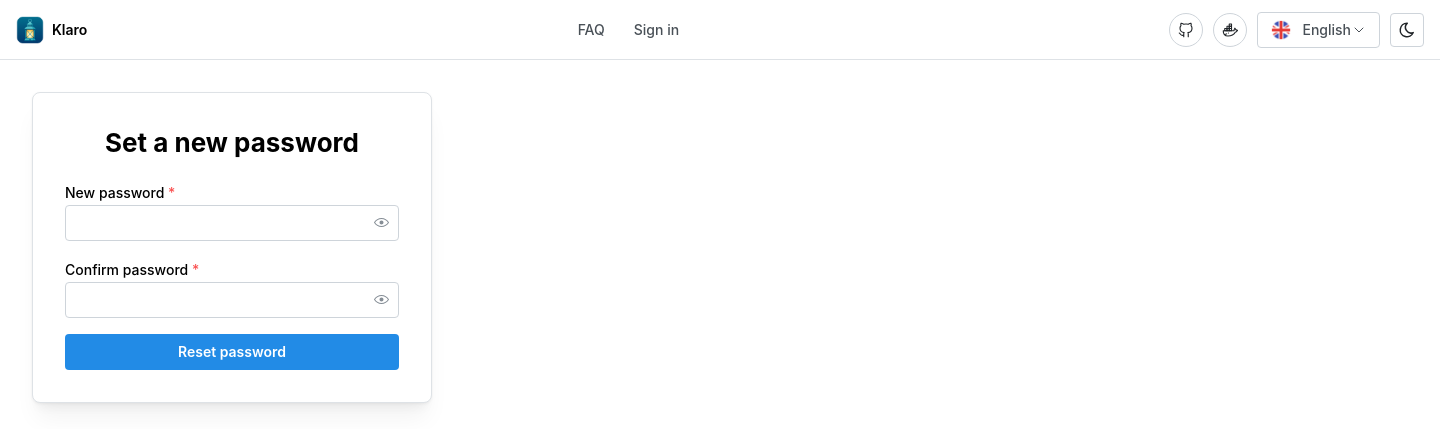
Test: ResetPassword › shows success message after submission
In the password field labelled "New password *": [232, 223] box [66, 206, 398, 240], type "new-password"
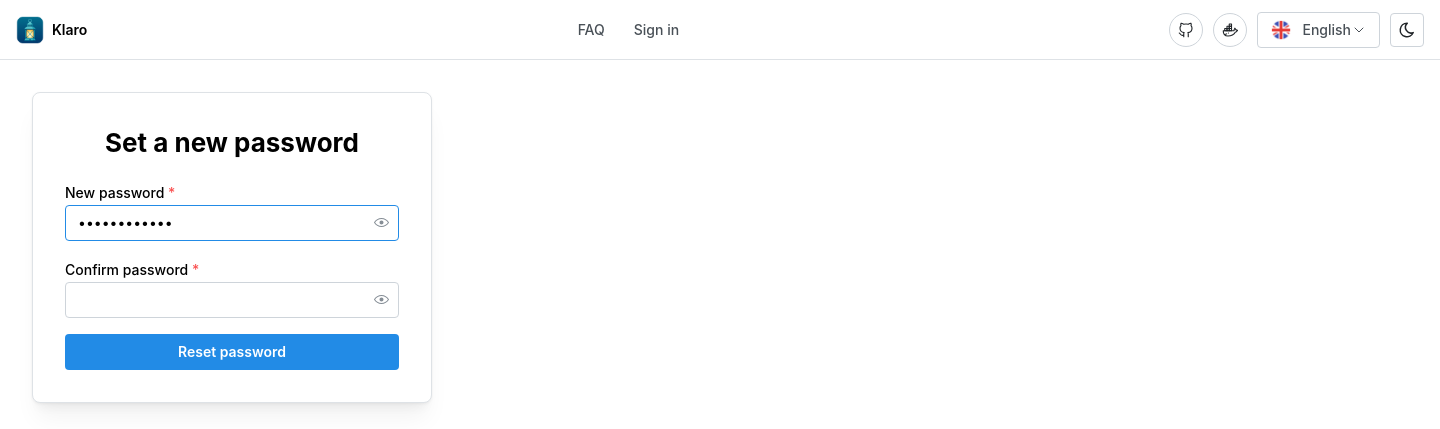
In the password field labelled "Confirm password *": [232, 300] box [66, 283, 398, 317], type "new-password"
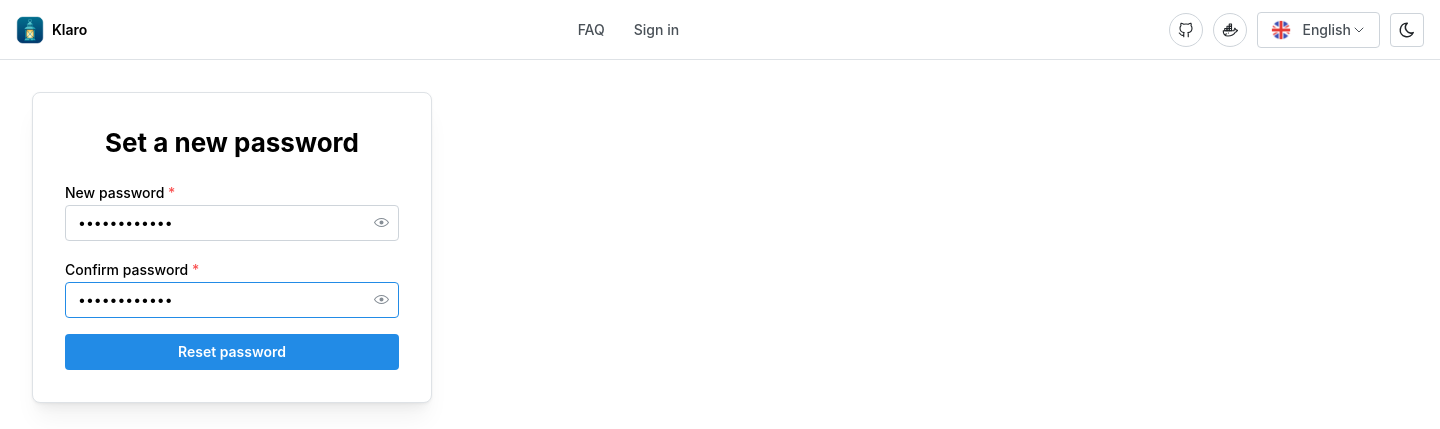
Click the button "Reset password": [232, 352] box [65, 334, 399, 370]
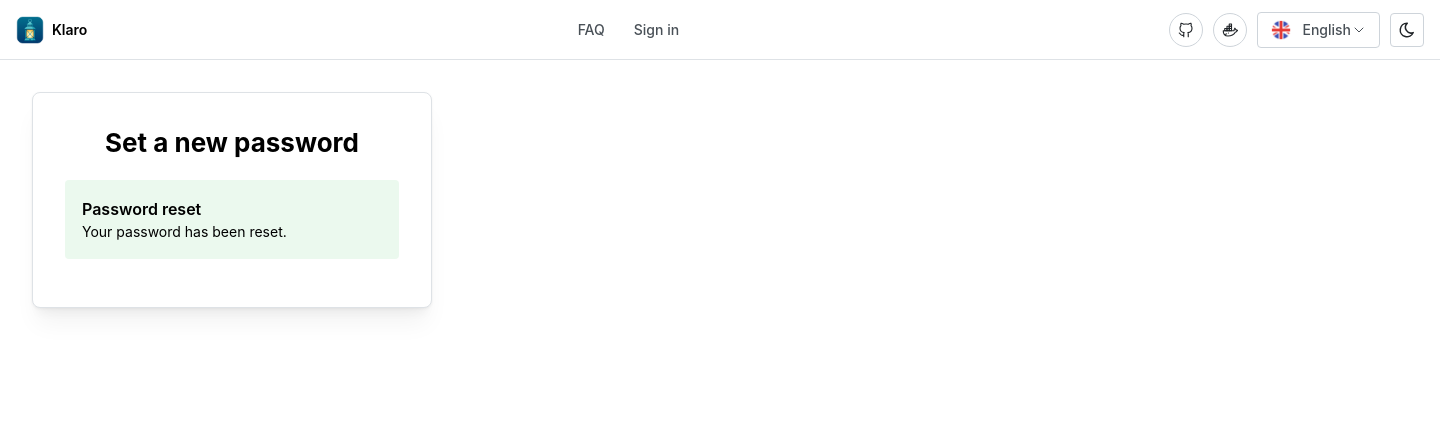
Expected: the text "Your password has been reset." is shown, [82, 223, 287, 240]
